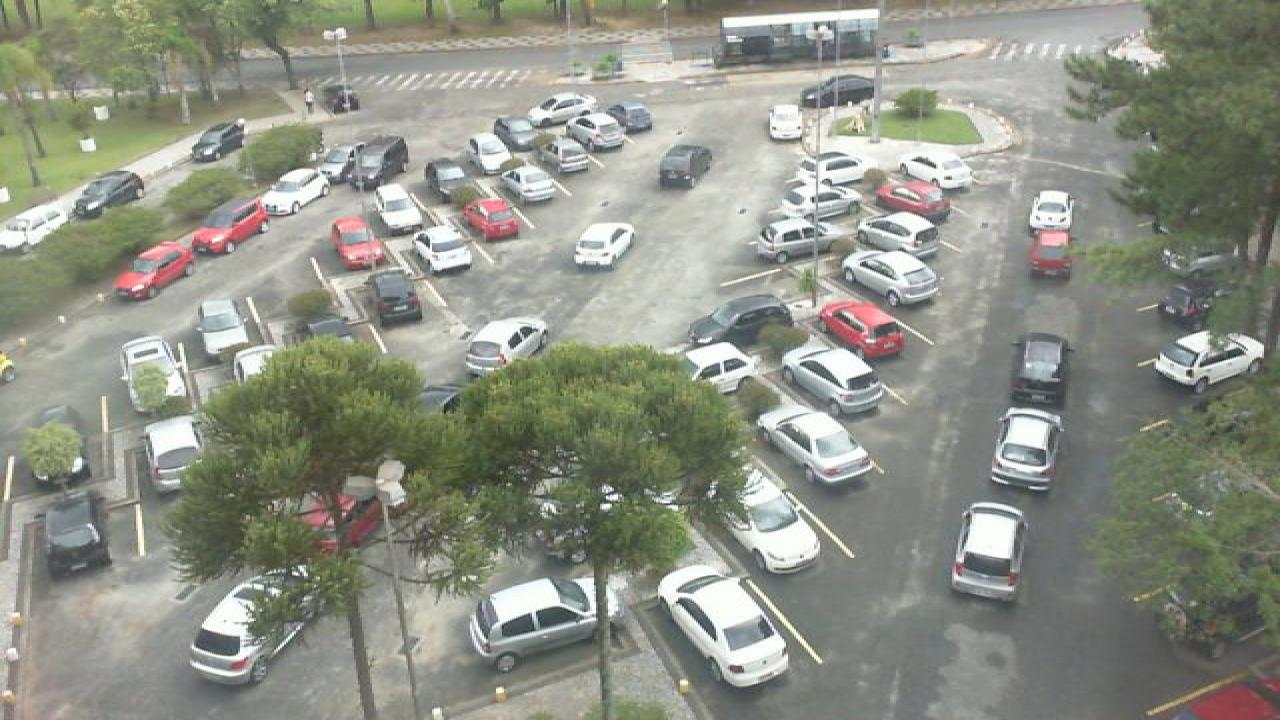Car: (652, 564, 792, 690), (464, 572, 634, 672), (186, 574, 332, 686), (710, 465, 824, 576), (758, 403, 874, 487), (948, 500, 1030, 600), (778, 345, 886, 415), (34, 488, 114, 580), (1150, 330, 1268, 392), (986, 407, 1066, 492), (684, 292, 796, 346), (840, 248, 944, 306), (816, 297, 906, 361), (120, 333, 188, 414), (140, 412, 208, 492), (464, 315, 554, 375), (750, 215, 860, 264), (1008, 330, 1074, 410), (112, 242, 198, 301), (182, 198, 270, 255), (776, 178, 880, 222), (684, 339, 764, 395), (856, 212, 944, 258), (70, 170, 146, 222), (260, 168, 332, 218), (316, 136, 380, 192), (872, 180, 954, 223), (410, 225, 478, 276), (194, 298, 252, 356), (1158, 280, 1222, 332), (572, 220, 636, 269), (364, 272, 422, 326), (330, 216, 386, 271), (1158, 242, 1238, 280), (2, 206, 68, 250), (898, 154, 974, 192), (798, 75, 880, 109), (792, 152, 866, 189), (184, 119, 246, 163), (374, 180, 428, 230), (462, 195, 522, 240), (564, 110, 628, 151), (1026, 228, 1076, 280), (658, 143, 714, 189), (528, 91, 600, 125), (358, 134, 410, 180), (232, 343, 284, 385), (506, 164, 560, 204), (422, 155, 470, 198), (1026, 189, 1074, 232), (466, 134, 516, 174), (546, 136, 594, 174), (492, 116, 544, 150), (764, 102, 806, 143), (612, 101, 654, 134)
